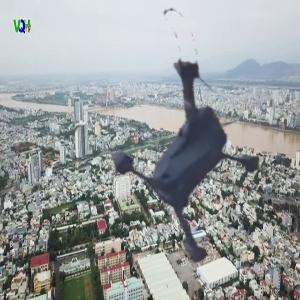drone: (67, 23, 288, 244)
